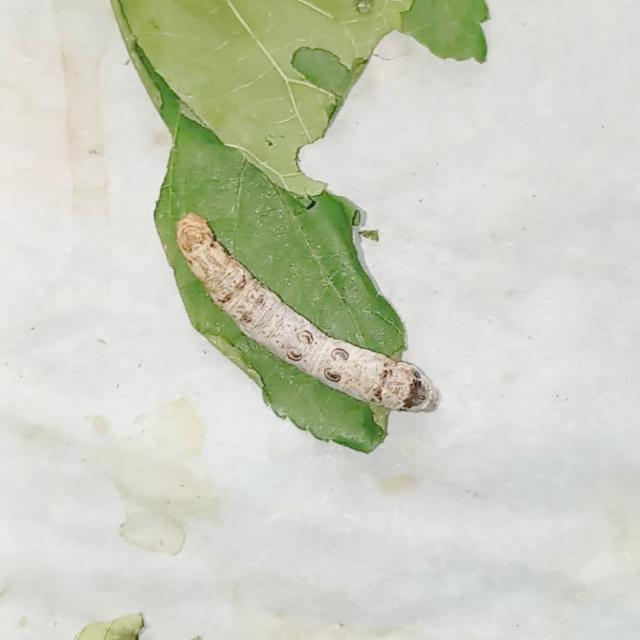Grasserie: (173, 202, 443, 426)
